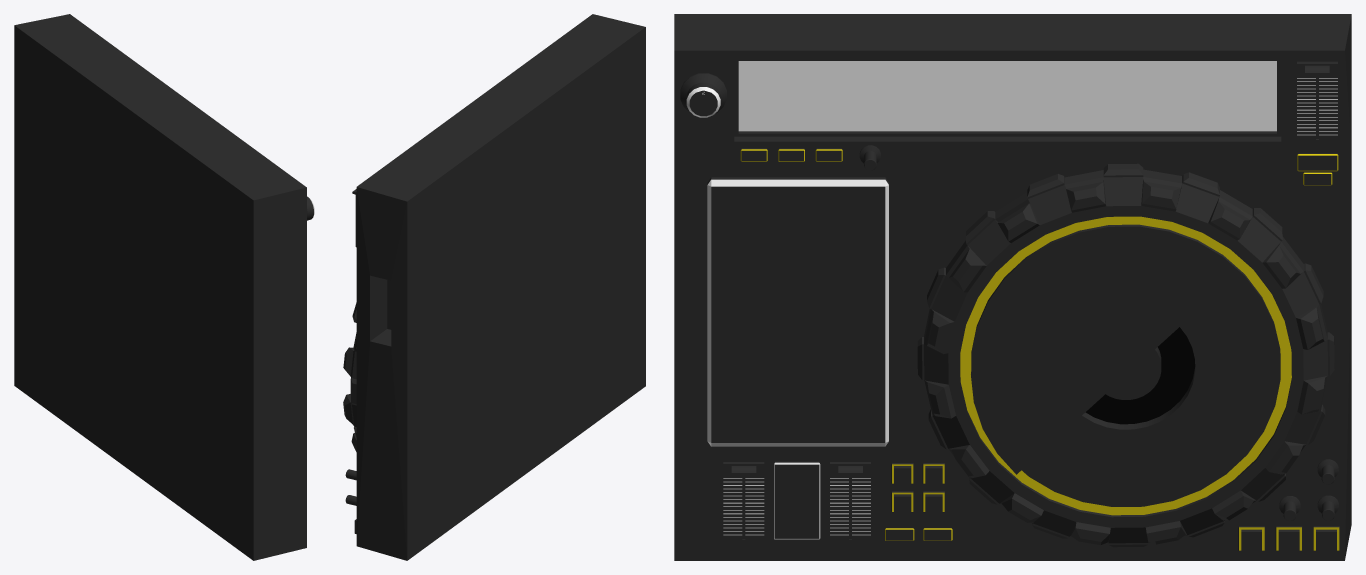
The model's file is Panel.fbx.
The picture shows the model from 3 angles, left to right: view 1: azimuth 30°, elevation 25°; view 2: azimuth 150°, elevation 25°; view 3: azimuth 270°, elevation 25°; orthographic projection. The views are drawn at different scales.
Visible parts, largest first — view 1: Panel; view 2: Panel, Rolling Panel; view 3: Panel, Rolling Panel, Frequency Panel, Painting Panel.
Part boxes in pixels (x1=…): Panel: x1=14, y1=14, x2=314, y2=560; Panel: x1=345, y1=14, x2=645, y2=560; Rolling Panel: x1=343, y1=302, x2=356, y2=451; Panel: x1=674, y1=14, x2=1351, y2=560; Rolling Panel: x1=917, y1=163, x2=1334, y2=547; Frequency Panel: x1=738, y1=61, x2=1276, y2=131; Painting Panel: x1=971, y1=233, x2=1236, y2=474.
Bounding box in the file's own units: 61.93 × 257 × 309.
